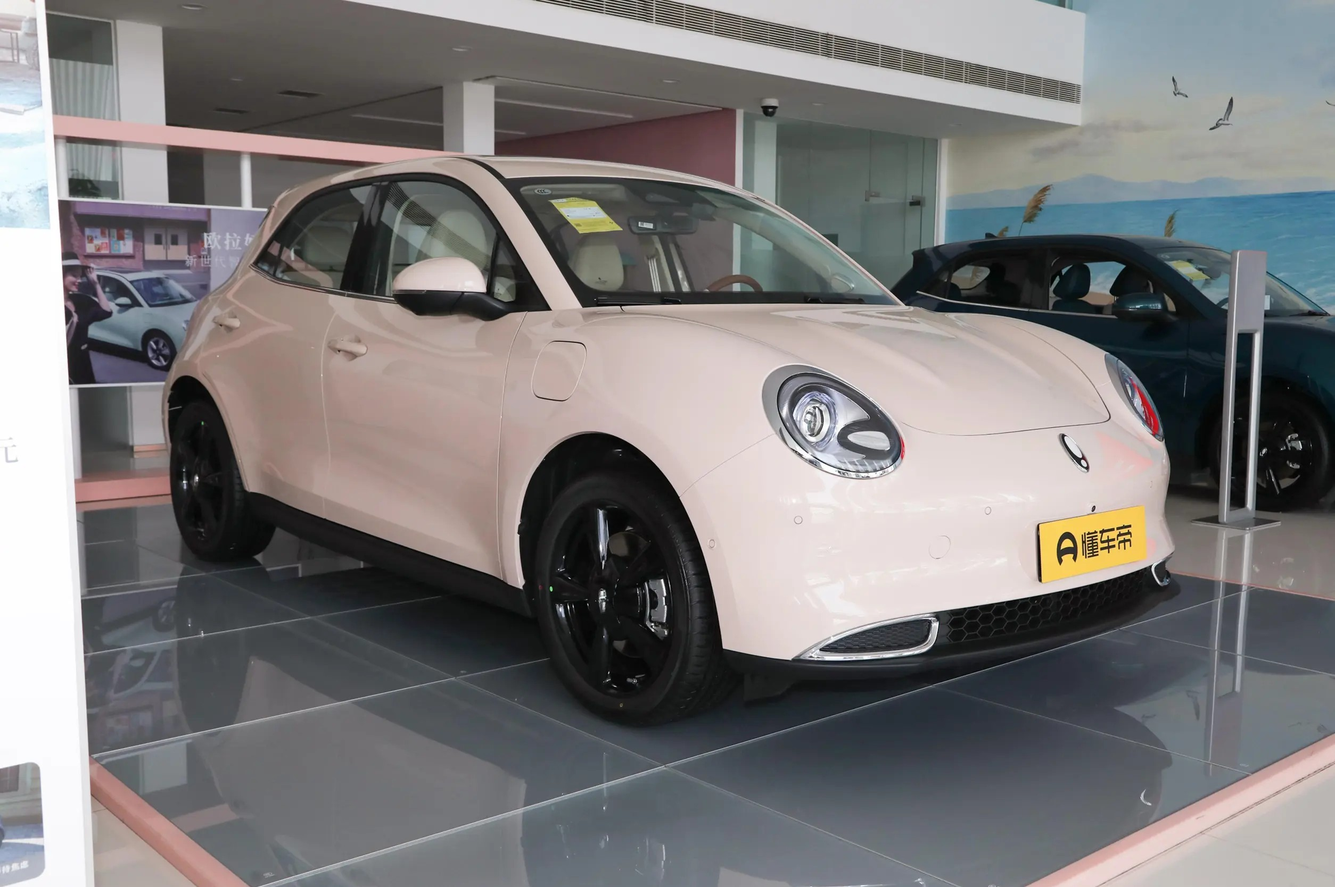ORA: (1059, 433, 1089, 472)
